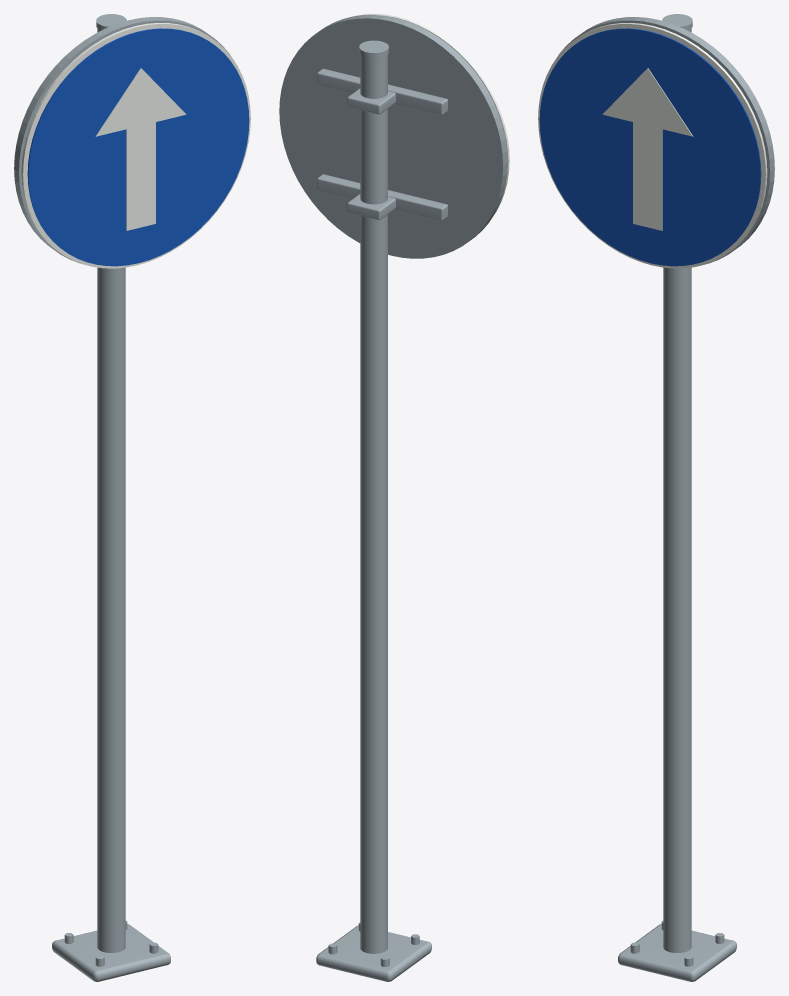
File: DS_Sign_Straight.glb
The picture shows the model from 3 angles, left to right: view 1: azimuth 30°, elevation 25°; view 2: azimuth 150°, elevation 25°; view 3: azimuth 330°, elevation 25°; orthographic projection. The views are drawn at different scales.
Visible parts, largest first — view 1: Face_Field.009, Post.009, DirectionArrow, BasePlate.009, Face_Border.009, Plate_Back.009; view 2: Plate_Back.009, Post.009, BasePlate.009, RearRail.019, RearRail.018, PostClamp.019, PostClamp.018, Face_Border.009; view 3: Face_Field.009, Post.009, DirectionArrow, BasePlate.009, Face_Border.009, Plate_Back.009.
Part boxes in pixels (box(x1,y1,x2,y2)): Face_Field.009: box(27, 28, 249, 266); Post.009: box(97, 28, 125, 952); DirectionArrow: box(95, 68, 186, 230); BasePlate.009: box(52, 924, 170, 981); Face_Border.009: box(21, 23, 250, 268); Plate_Back.009: box(14, 17, 230, 263); Plate_Back.009: box(279, 15, 507, 258); Post.009: box(360, 55, 387, 953); BasePlate.009: box(316, 925, 431, 981); RearRail.019: box(317, 68, 448, 115); RearRail.018: box(317, 174, 448, 220); PostClamp.019: box(347, 88, 395, 114); PostClamp.018: box(347, 194, 395, 219); Face_Border.009: box(354, 14, 509, 212); Face_Field.009: box(539, 28, 761, 266); Post.009: box(663, 28, 691, 952); DirectionArrow: box(602, 68, 693, 230); BasePlate.009: box(618, 924, 736, 981); Face_Border.009: box(538, 23, 767, 268); Plate_Back.009: box(558, 17, 774, 263).
Size of the model in its own units: 0.71 by 2.81 by 0.279.
